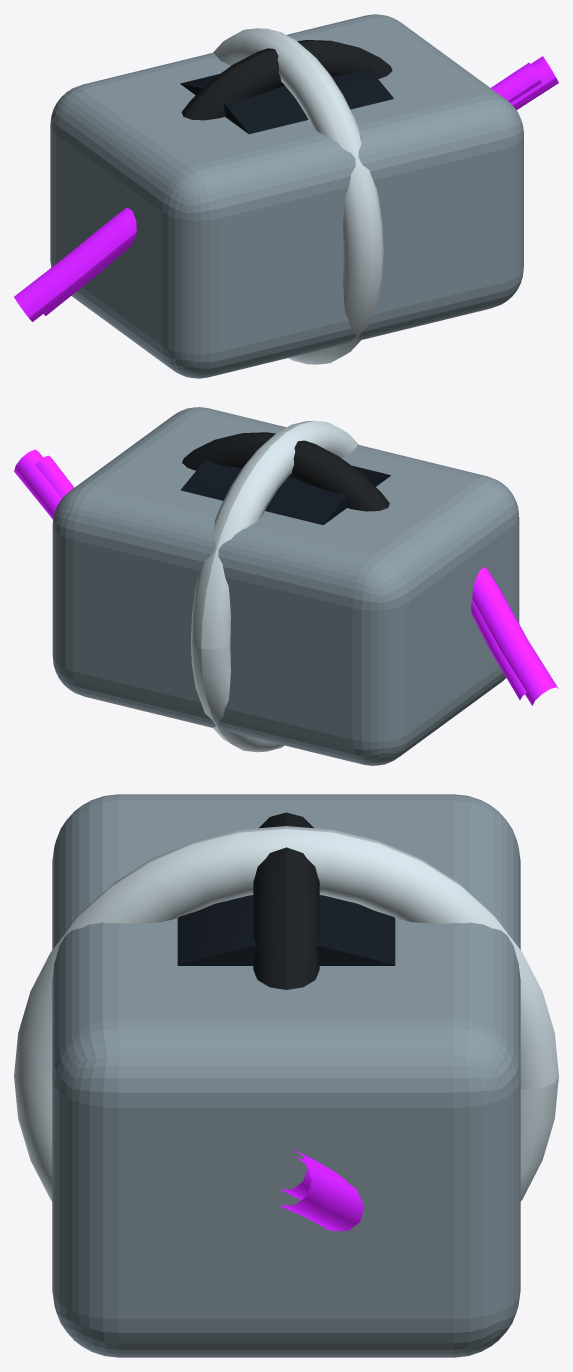
The model's file is electrical_11.glb.
3 views of the same model, one above another, from view 1: azimuth 30°, elevation 25°; view 2: azimuth 150°, elevation 25°; view 3: azimuth 270°, elevation 25° (orthographic). The views are drawn at different scales.
Visible parts, largest first — view 1: asset_mesh__electrical_0512__reference_body, asset_mesh__electrical_0503__functional_ring, asset_mesh__electrical_0511__service_element, asset_mesh__electrical_0502__current_path, asset_mesh__electrical_0503__rotor, asset_mesh__electrical_0501__current_path; view 2: asset_mesh__electrical_0512__reference_body, asset_mesh__electrical_0503__functional_ring, asset_mesh__electrical_0511__service_element, asset_mesh__electrical_0502__current_path, asset_mesh__electrical_0503__rotor, asset_mesh__electrical_0501__current_path; view 3: asset_mesh__electrical_0512__reference_body, asset_mesh__electrical_0503__functional_ring, asset_mesh__electrical_0503__rotor, asset_mesh__electrical_0511__service_element, asset_mesh__electrical_0502__current_path.
Boxes of the visible parts, x1=… form: asset_mesh__electrical_0512__reference_body: x1=50, y1=14, x2=523, y2=378; asset_mesh__electrical_0503__functional_ring: x1=213, y1=28, x2=383, y2=364; asset_mesh__electrical_0511__service_element: x1=181, y1=40, x2=392, y2=120; asset_mesh__electrical_0502__current_path: x1=14, y1=56, x2=558, y2=321; asset_mesh__electrical_0503__rotor: x1=180, y1=68, x2=393, y2=134; asset_mesh__electrical_0501__current_path: x1=44, y1=62, x2=541, y2=315; asset_mesh__electrical_0512__reference_body: x1=52, y1=407, x2=519, y2=765; asset_mesh__electrical_0503__functional_ring: x1=190, y1=420, x2=358, y2=752; asset_mesh__electrical_0511__service_element: x1=182, y1=432, x2=389, y2=511; asset_mesh__electrical_0502__current_path: x1=14, y1=449, x2=558, y2=705; asset_mesh__electrical_0503__rotor: x1=181, y1=459, x2=390, y2=525; asset_mesh__electrical_0501__current_path: x1=35, y1=455, x2=526, y2=699; asset_mesh__electrical_0512__reference_body: x1=52, y1=794, x2=520, y2=1357; asset_mesh__electrical_0503__functional_ring: x1=14, y1=826, x2=558, y2=1201; asset_mesh__electrical_0503__rotor: x1=177, y1=895, x2=395, y2=965; asset_mesh__electrical_0511__service_element: x1=253, y1=812, x2=319, y2=989; asset_mesh__electrical_0502__current_path: x1=278, y1=1156, x2=363, y2=1230.
Size of the model in its own units: 1.64 by 0.8996 by 0.8996.
